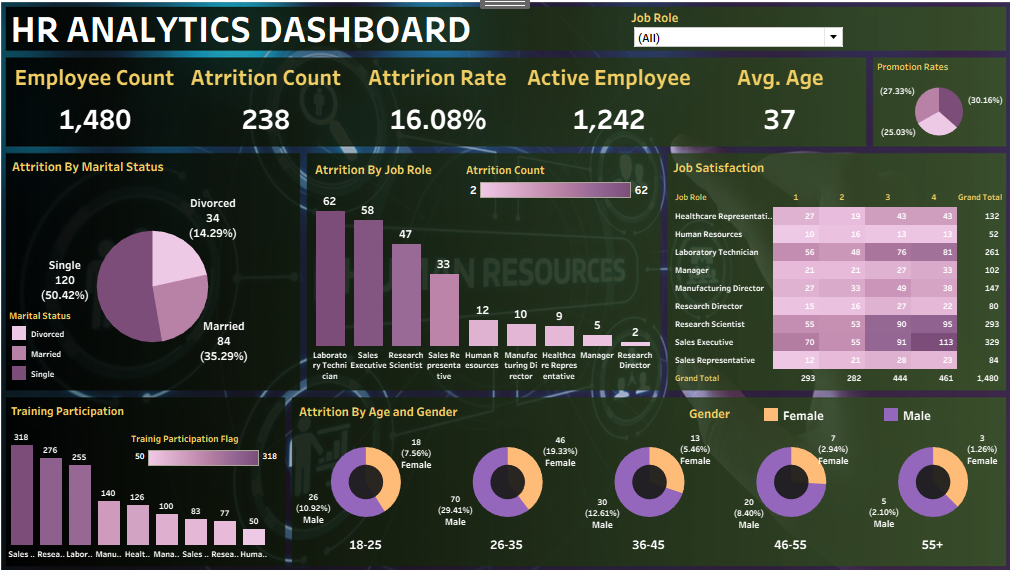

This screenshot's page, from the dashboard's own definition file:
{"tool":"tableau","page":{"name":"Dashboard 1","canvas":[1000,1000],"units":"permille","ordinal":0},"visuals":[{"type":"image","param":"C:/Users/sintac code/Downloads/HR background Final.png","box":[6.9,13.5,986.2,973]},{"type":"text","box":[69.3,30.4,418.2,65.9]},{"type":"filter","title":"KPIs","param":"[federated.0ahglu7190n4ru1bnbjwg18utqqb].[none:JobRole:nk]","box":[608.7,32.1,186.2,65.9]},{"type":"worksheet","title":"Promotion Rates","mark":"Pie","box":[818.2,111.5,114.3,140.2]},{"type":"worksheet","title":"KPIs","mark":"Automatic","box":[70.1,119.9,742,141.9]},{"type":"worksheet","title":"Attrition By Marital Status","mark":"Pie","box":[69.3,277,250.2,393.6]},{"type":"worksheet","title":"Job Satisfaction","mark":"Square","rows":["JobRole"],"cols":["JobSatisfaction"],"box":[641.6,278.7,289.2,391.9]},{"type":"worksheet","title":"Atrrition By Job Role","mark":"Automatic","rows":["Calculation_0942334755942400"],"cols":["JobRole"],"box":[331.6,282.1,297.8,386.8]},{"type":"legend","title":"Atrrition By Job Role","param":"[federated.0ahglu7190n4ru1bnbjwg18utqqb].[sum:Calculation_0942334755942400:qk]","box":[465.8,290.5,161.9,64.2]},{"type":"legend","title":"Attrition By Marital Status","param":"[federated.0ahglu7190n4ru1bnbjwg18utqqb].[none:MaritalStatus:nk]","box":[70.1,538.9,78.8,128.4]},{"type":"worksheet","title":"Training Participation","mark":"Automatic","rows":["Calculation_0942334798069769"],"cols":["JobRole"],"box":[68.4,690.9,238.1,280.4]},{"type":"worksheet","title":"Attrition By Age and Gender","mark":"Pie","rows":["Calculation_0942334770200581","Calculation_0942334770200581"],"cols":["AgeGroup"],"box":[317.8,690.9,613.9,282.1]},{"type":"legend","title":"Attrition By Age and Gender","param":"[federated.0ahglu7190n4ru1bnbjwg18utqqb].[none:Gender:nk]","box":[658.9,701,271.9,27]},{"type":"legend","title":"Training Participation","param":"[federated.0ahglu7190n4ru1bnbjwg18utqqb].[sum:Calculation_0942334798069769:qk]","box":[175.8,746.6,130.7,60.8]}]}

Visuals, with their boxes on the dashboard's canvas, which has no fixed pixel size, in thousandths of its width and height (x1, y1, x2, y2). These are canvas units, not pixel positions in the 1012x572 screenshot, which may show the page scaled, cropped or inside an application window:
image: box(7, 14, 993, 986)
text: box(69, 30, 488, 96)
"KPIs" filter: box(609, 32, 795, 98)
"Promotion Rates" worksheet (Pie marks): box(818, 112, 932, 252)
"KPIs" worksheet: box(70, 120, 812, 262)
"Attrition By Marital Status" worksheet (Pie marks): box(69, 277, 320, 671)
"Job Satisfaction" worksheet (Square marks): box(642, 279, 931, 671)
"Atrrition By Job Role" worksheet: box(332, 282, 629, 669)
"Atrrition By Job Role" legend: box(466, 290, 628, 355)
"Attrition By Marital Status" legend: box(70, 539, 149, 667)
"Training Participation" worksheet: box(68, 691, 306, 971)
"Attrition By Age and Gender" worksheet (Pie marks): box(318, 691, 932, 973)
"Attrition By Age and Gender" legend: box(659, 701, 931, 728)
"Training Participation" legend: box(176, 747, 306, 807)
